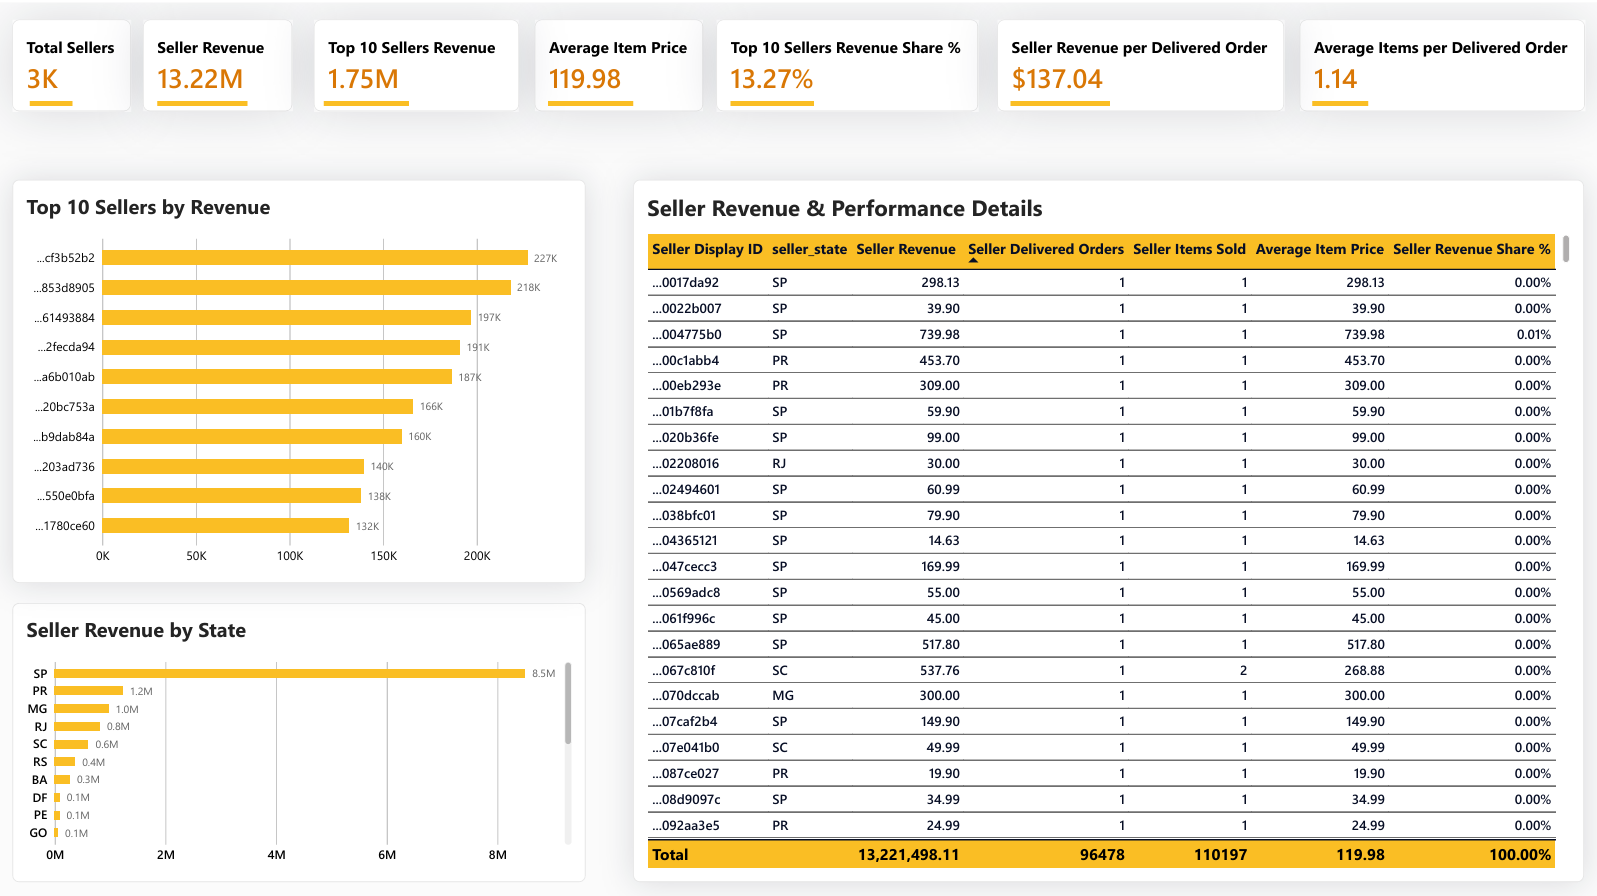

Layout of this report page (visuals, bound fields, positions):
{"tool":"powerbi","page":{"name":"Seller Performance","canvas":[1920,1080],"ordinal":2},"visuals":[{"type":"cardVisual","fields":{"Data":["analytics order_sales.Total Sellers"]},"box":[16.3,20.4,142.9,110.2],"z":0},{"type":"cardVisual","fields":{"Data":["analytics order_sales.Seller Revenue"]},"box":[173.5,20.4,179.6,110],"z":1000},{"type":"cardVisual","fields":{"Data":["analytics order_sales.Average Item Price"]},"box":[642.9,20.4,202,110],"z":2000},{"type":"clusteredBarChart","title":"Seller Revenue by State","fields":{"Category":["staging sellers.seller_state"],"Y":["analytics order_sales.Seller Revenue"]},"box":[16.3,720.4,687.8,334.7],"z":3000},{"type":"tableEx","title":"Seller Revenue & Performance Details","fields":{"Values":["staging sellers.Seller Display ID","staging sellers.seller_state","analytics order_sales.Seller Revenue","analytics order_sales.Seller Delivered Orders","analytics order_sales.Seller Items Sold","analytics order_sales.Average Item Price","analytics order_sales.Seller Revenue Share %"]},"box":[761.2,212.2,1140.8,842.9],"z":4000},{"type":"clusteredBarChart","title":"Top 10 Sellers by Revenue","fields":{"Category":["staging sellers.Seller Display ID"],"Y":["analytics order_sales.Seller Revenue"]},"box":[16.3,212.2,687.8,483.7],"z":5000},{"type":"cardVisual","fields":{"Data":["analytics order_sales.Top 10 Sellers Revenue"]},"box":[377.6,20.4,246.9,110.2],"z":7000},{"type":"cardVisual","fields":{"Data":["analytics order_sales.Top 10 Sellers Revenue Share %"]},"box":[861.2,20.4,314.3,110.2],"z":8000},{"type":"cardVisual","fields":{"Data":["analytics order_sales.Average Items per Delivered Order"]},"box":[1561.2,20.4,342.9,110],"z":10000},{"type":"cardVisual","fields":{"Data":["analytics order_sales.Seller Revenue per Delivered Order"]},"box":[1198,20.4,344.9,110],"z":11000},{"type":"shape","box":[36.7,89.8,51,61.2],"z":11001},{"type":"shape","box":[1214.3,89.8,118.4,61.2],"z":11002},{"type":"shape","box":[189.8,89.8,108.2,61.2],"z":11003},{"type":"shape","box":[389.8,89.8,102,61.2],"z":11004},{"type":"shape","box":[1575.5,89.8,67.3,61.2],"z":11005},{"type":"shape","box":[877.6,89.8,100,61.2],"z":11006},{"type":"shape","box":[659.2,89.8,102,61.2],"z":11007}]}

Visuals, with their boxes in screenshot pixels (x1, y1, x2, y2), scaled from the page's 1920x1080 canvas onto the 1597x896 screenshot:
cardVisual - analytics order_sales.Total Sellers: pyautogui.locateOnScreen(14, 17, 132, 108)
cardVisual - analytics order_sales.Seller Revenue: pyautogui.locateOnScreen(144, 17, 294, 108)
cardVisual - analytics order_sales.Average Item Price: pyautogui.locateOnScreen(535, 17, 703, 108)
"Seller Revenue by State" clusteredBarChart: pyautogui.locateOnScreen(14, 598, 586, 875)
"Seller Revenue & Performance Details" tableEx: pyautogui.locateOnScreen(633, 176, 1582, 875)
"Top 10 Sellers by Revenue" clusteredBarChart: pyautogui.locateOnScreen(14, 176, 586, 577)
cardVisual - analytics order_sales.Top 10 Sellers Revenue: pyautogui.locateOnScreen(314, 17, 519, 108)
cardVisual - analytics order_sales.Top 10 Sellers Revenue Share %: pyautogui.locateOnScreen(716, 17, 978, 108)
cardVisual - analytics order_sales.Average Items per Delivered Order: pyautogui.locateOnScreen(1299, 17, 1584, 108)
cardVisual - analytics order_sales.Seller Revenue per Delivered Order: pyautogui.locateOnScreen(996, 17, 1283, 108)
shape: pyautogui.locateOnScreen(31, 75, 73, 125)
shape: pyautogui.locateOnScreen(1010, 75, 1109, 125)
shape: pyautogui.locateOnScreen(158, 75, 248, 125)
shape: pyautogui.locateOnScreen(324, 75, 409, 125)
shape: pyautogui.locateOnScreen(1310, 75, 1366, 125)
shape: pyautogui.locateOnScreen(730, 75, 813, 125)
shape: pyautogui.locateOnScreen(548, 75, 633, 125)
